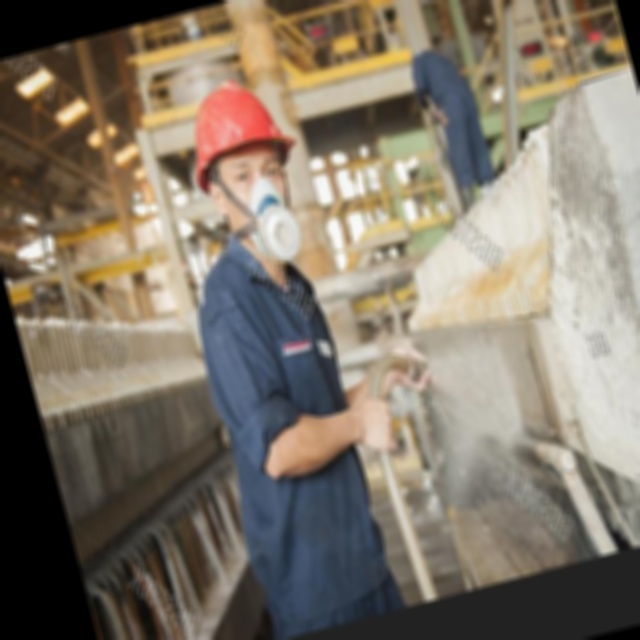Con_Casco: (177, 69, 311, 238)
